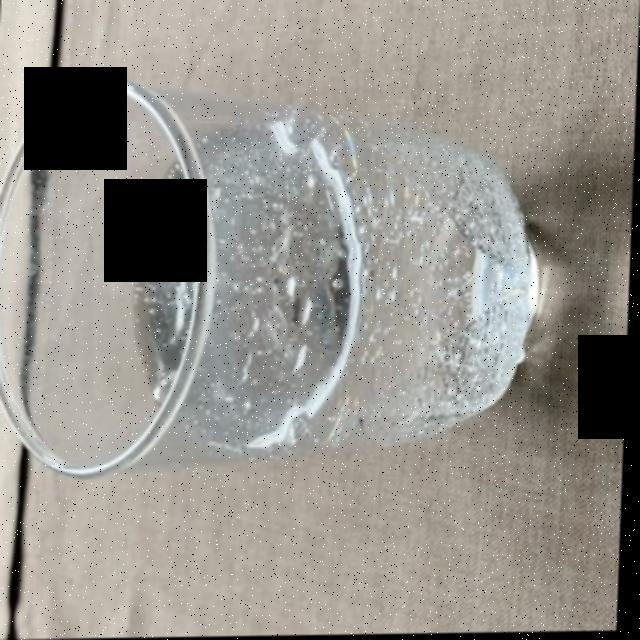water: (131, 120, 531, 461)
